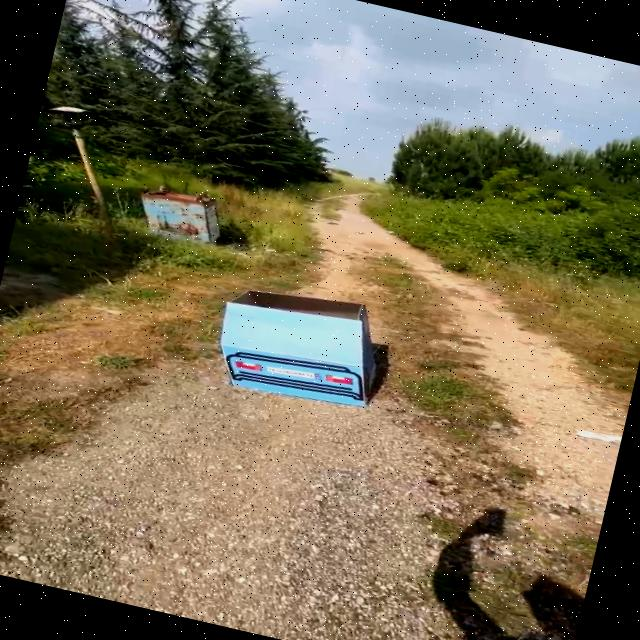blue_car: (191, 254, 427, 437)
